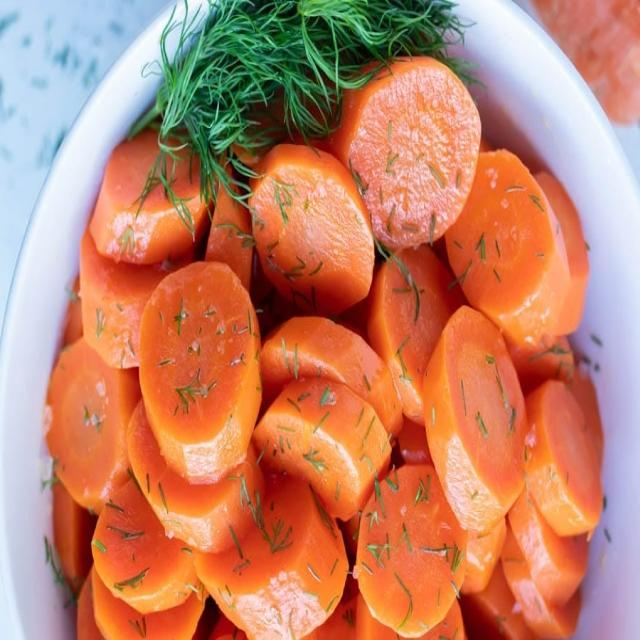ca rot: (45, 58, 602, 639)
rau ngo: (132, 0, 473, 220)
